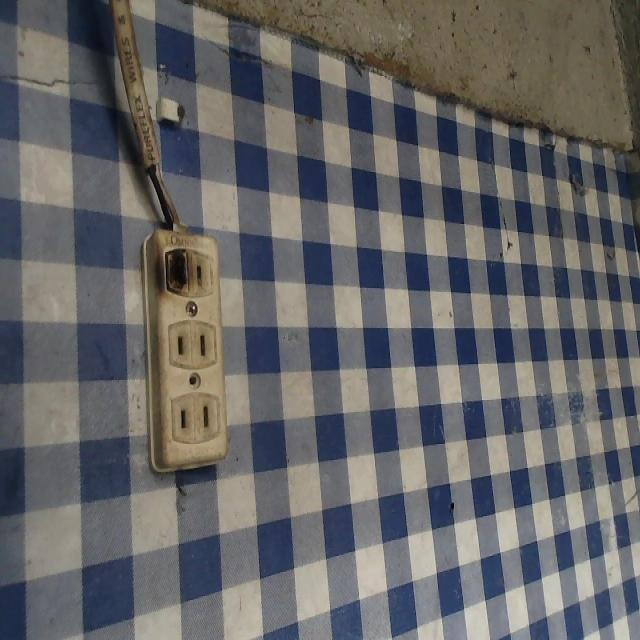-: (157, 240, 194, 301)
